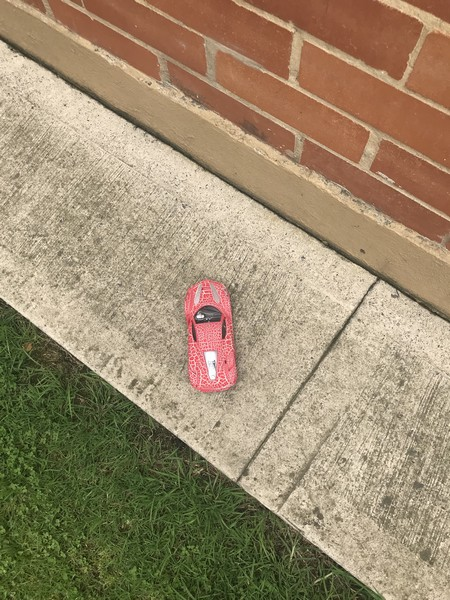RC: (183, 278, 238, 394)
